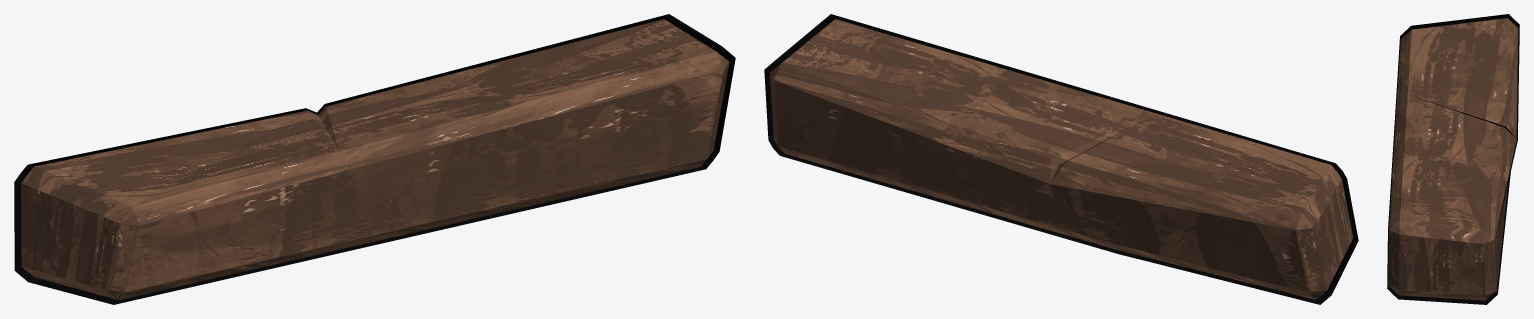
The model's file is entity298686.gltf.
3 views of the same model, side by side, from view 1: azimuth 30°, elevation 25°; view 2: azimuth 150°, elevation 25°; view 3: azimuth 270°, elevation 25° (orthographic). The views are drawn at different scales.
Parts seen in each view (by area): view 1: node_Brick_Step_0118; view 2: node_Brick_Step_0118; view 3: node_Brick_Step_0118.
Boxes of the visible parts, left/top/right/bottom form: node_Brick_Step_0118: left=14, top=14, right=735, bottom=304; node_Brick_Step_0118: left=764, top=14, right=1358, bottom=304; node_Brick_Step_0118: left=1387, top=14, right=1519, bottom=304.
Size of the model in its own units: 5.82 by 1.11 by 1.39.
